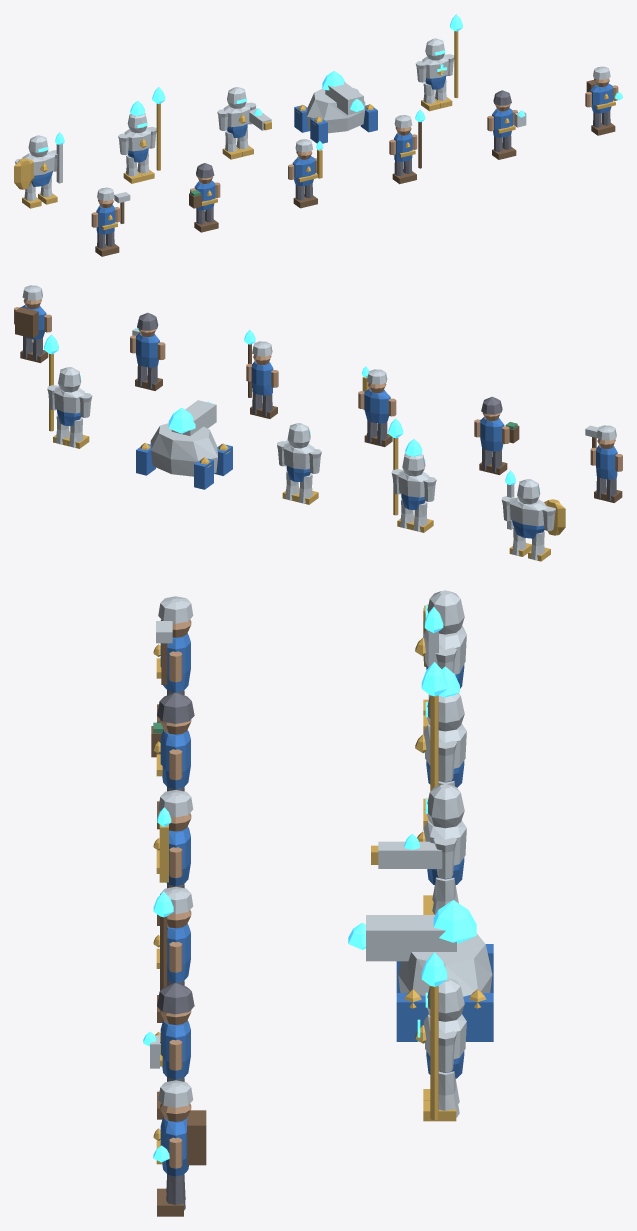
The model's file is lux_faction_candidates.glb.
The picture shows the model from 3 angles, top to bottom: view 1: azimuth 30°, elevation 25°; view 2: azimuth 150°, elevation 25°; view 3: azimuth 270°, elevation 25°; orthographic projection. The views are drawn at different scales.
Parts seen in each view (by area): view 1: lux_siege, lux_infantry, lux_mage, lux_healer, lux_gunner, lux_serah, lux_aron, lux_daren, lux_miko, lux_kiel, lux_lira; view 2: lux_siege, lux_infantry, lux_mage, lux_healer, lux_gunner, lux_daren, lux_lira, lux_serah, lux_aron, lux_miko, lux_kiel; view 3: lux_siege, lux_gunner, lux_healer, lux_miko, lux_mage, lux_kiel, lux_infantry, lux_lira, lux_serah, lux_aron, lux_daren.
Boxes of the visible parts, x1,y1,x2,y2 form: lux_siege: (294, 71, 377, 143); lux_infantry: (14, 132, 64, 208); lux_mage: (118, 87, 165, 183); lux_healer: (415, 14, 462, 111); lux_gunner: (217, 87, 271, 159); lux_serah: (389, 109, 425, 184); lux_aron: (91, 187, 130, 256); lux_daren: (288, 139, 323, 208); lux_miko: (585, 66, 622, 135); lux_kiel: (487, 90, 526, 159); lux_lira: (189, 163, 220, 232); lux_siege: (136, 400, 232, 489); lux_infantry: (501, 470, 565, 561); lux_mage: (388, 418, 436, 532); lux_healer: (44, 334, 92, 448); lux_gunner: (277, 423, 321, 504); lux_daren: (358, 366, 396, 446); lux_lira: (474, 396, 519, 474); lux_serah: (244, 330, 278, 418); lux_aron: (585, 425, 622, 502); lux_miko: (14, 285, 51, 362); lux_kiel: (130, 312, 165, 390); lux_siege: (348, 900, 493, 1041); lux_gunner: (371, 784, 466, 914); lux_healer: (415, 952, 466, 1121); lux_miko: (153, 1080, 206, 1216); lux_mage: (415, 662, 466, 830); lux_kiel: (143, 983, 194, 1119); lux_infantry: (415, 590, 466, 734); lux_lira: (151, 692, 194, 829); lux_serah: (153, 886, 193, 1022); lux_aron: (153, 596, 193, 722); lux_daren: (153, 790, 193, 925).
Bounding box in the file's own units: 18.57 × 2.9 × 5.2.
